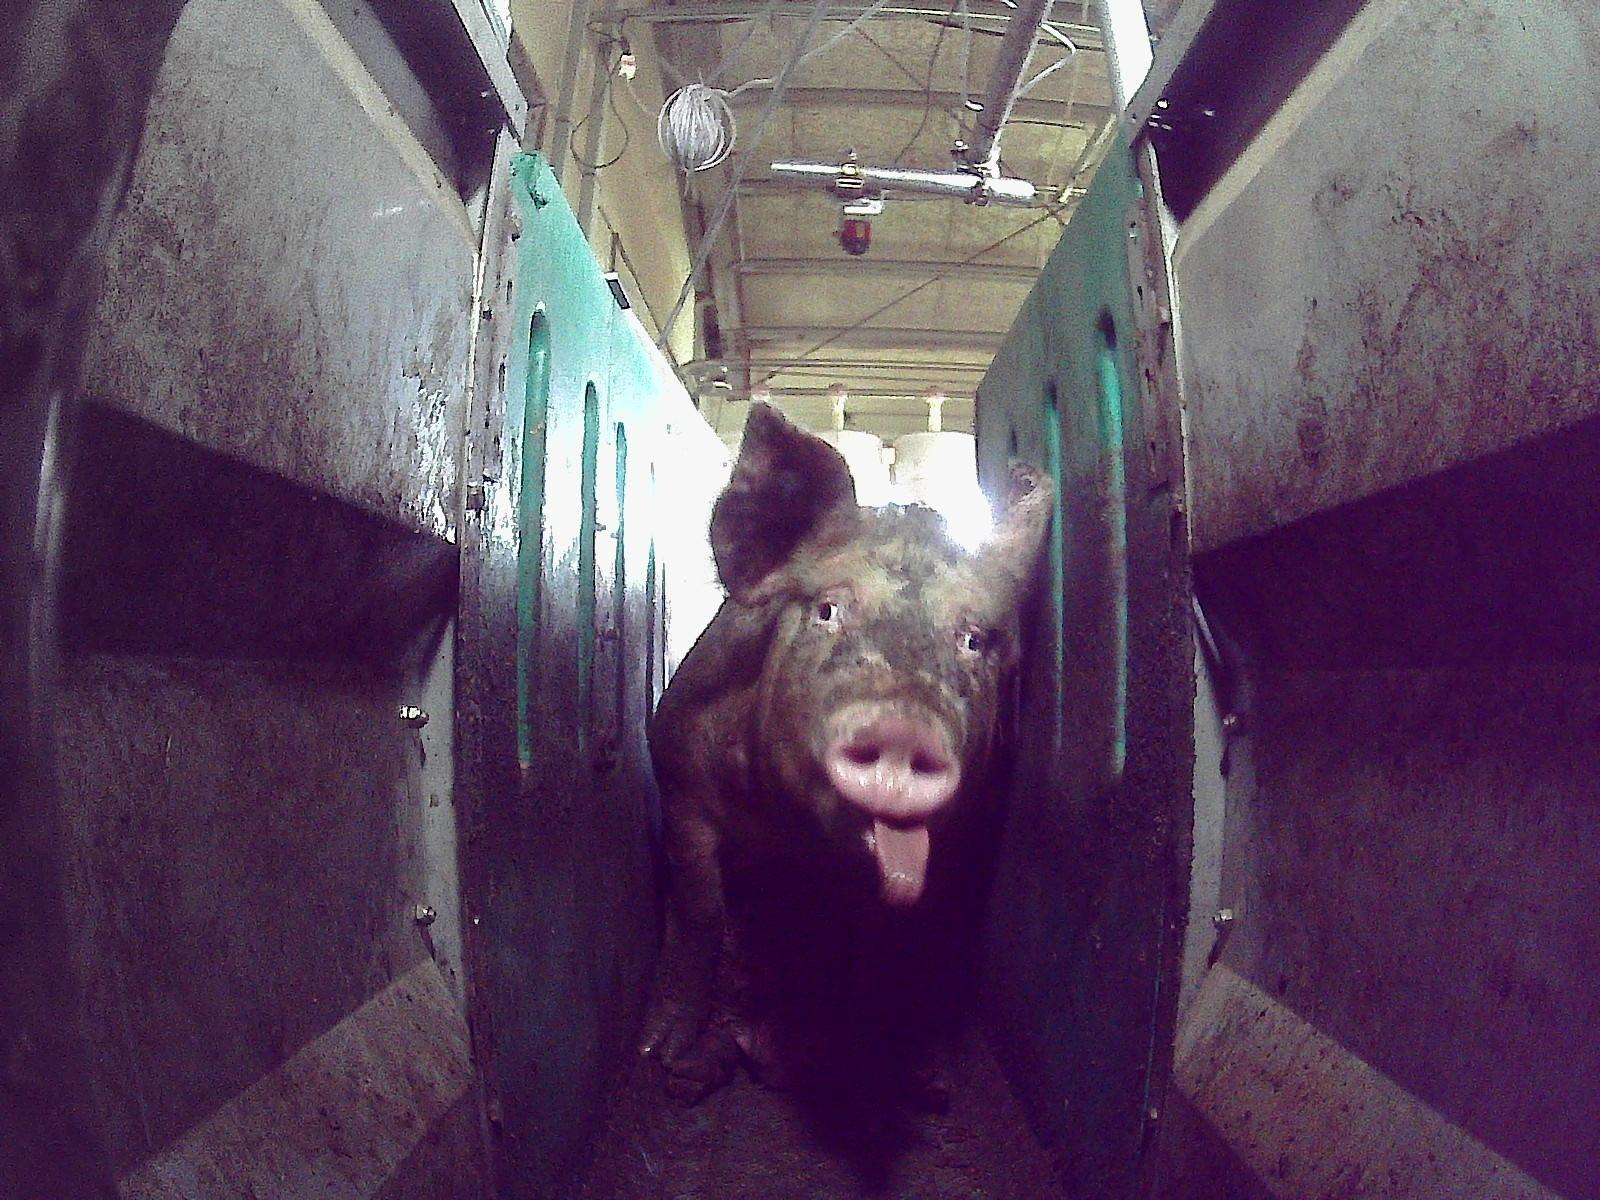Face: (742, 506, 1031, 904)
